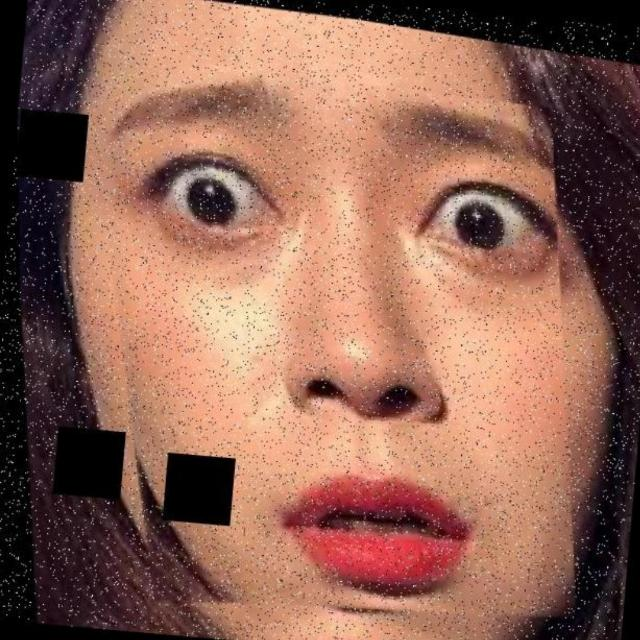Surprised: (85, 31, 640, 625)
